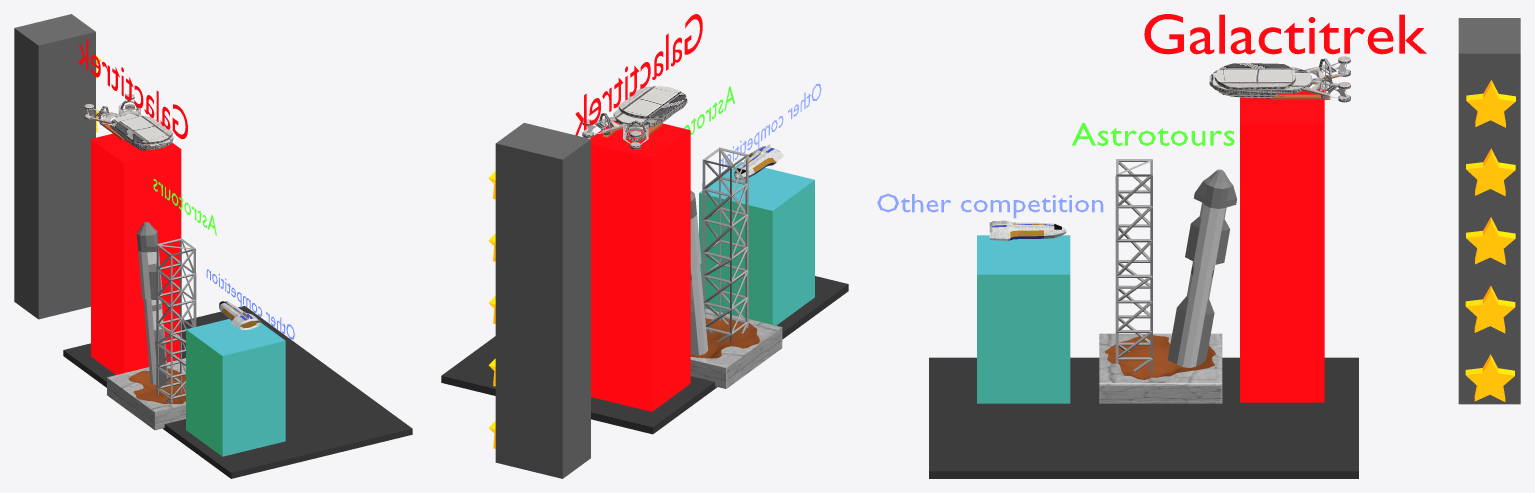
File: reviews.glb
3 renders of one model, left to right at view 1: azimuth 30°, elevation 25°; view 2: azimuth 150°, elevation 25°; view 3: azimuth 270°, elevation 25°, orthographic. The views are drawn at different scales.
Visible parts, largest first — view 1: Plane, Cube, Cube.001, Cylinder.001, Cylinder.004, Text.002, Cylinder, Text, Text.001, Cylinder.002; view 2: Plane, Cube, Cube.001, Cylinder.004, Cylinder.001, Text.002, Cylinder, Text, Cylinder.002, Cylinder.003, Cylinder.005; view 3: Plane, Cube.001, Cylinder.001, Cylinder.005, Cube, Text.002, Cylinder.004, Text, Cylinder, Text.001, Cylinder.003.
Boxes of the visible parts, x1=… form: Plane: x1=14, y1=14, x2=412, y2=478; Cube: x1=156, y1=238, x2=196, y2=403; Cube.001: x1=107, y1=358, x2=185, y2=430; Cylinder.001: x1=136, y1=222, x2=168, y2=385; Cylinder.004: x1=101, y1=114, x2=173, y2=150; Text.002: x1=78, y1=39, x2=187, y2=139; Cylinder: x1=219, y1=301, x2=261, y2=330; Text: x1=206, y1=269, x2=294, y2=339; Text.001: x1=153, y1=178, x2=216, y2=235; Cylinder.002: x1=84, y1=104, x2=123, y2=124; Plane: x1=441, y1=121, x2=848, y2=478; Cube: x1=702, y1=147, x2=748, y2=341; Cube.001: x1=690, y1=308, x2=782, y2=388; Cylinder.004: x1=602, y1=86, x2=687, y2=143; Cylinder.001: x1=690, y1=190, x2=708, y2=355; Text.002: x1=575, y1=14, x2=702, y2=135; Cylinder: x1=734, y1=144, x2=783, y2=180; Text: x1=718, y1=83, x2=821, y2=171; Cylinder.002: x1=623, y1=120, x2=648, y2=149; Cylinder.003: x1=582, y1=113, x2=627, y2=137; Cylinder.005: x1=488, y1=171, x2=495, y2=448; Plane: x1=929, y1=18, x2=1520, y2=478; Cube.001: x1=1099, y1=333, x2=1222, y2=403; Cylinder.001: x1=1167, y1=169, x2=1236, y2=367; Cylinder.005: x1=1465, y1=80, x2=1515, y2=401; Cube: x1=1115, y1=159, x2=1152, y2=373; Text.002: x1=1144, y1=14, x2=1426, y2=54; Cylinder.004: x1=1209, y1=63, x2=1330, y2=99; Text: x1=877, y1=193, x2=1103, y2=218; Cylinder: x1=989, y1=220, x2=1066, y2=240; Text.001: x1=1072, y1=123, x2=1234, y2=145; Cylinder.003: x1=1301, y1=75, x2=1350, y2=102.
Bounding box in the file's own units: 9.74 × 14.34 × 22.17.
19 materials, 4 textured.
